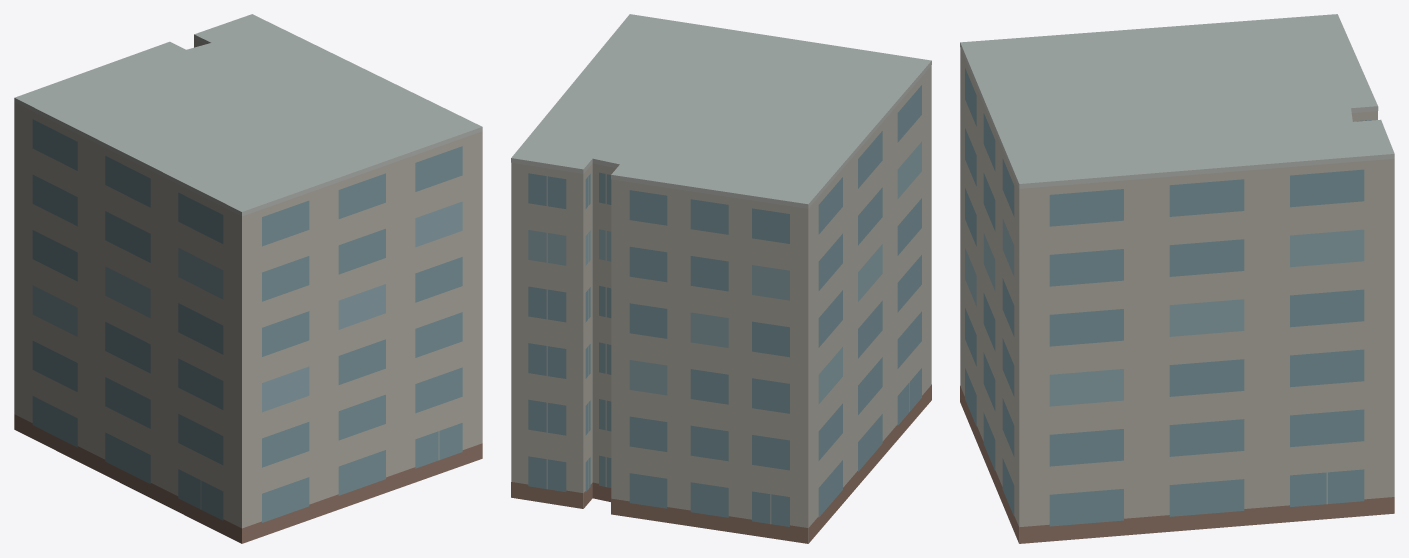
File: survey-upis-32734528.glb
3 renders of one model, left to right at view 1: azimuth 30°, elevation 25°; view 2: azimuth 150°, elevation 25°; view 3: azimuth 270°, elevation 25°, orthographic. The views are drawn at different scales.
Parts seen in each view (by area): view 1: survey-upis-32734528.tmp; view 2: survey-upis-32734528.tmp; view 3: survey-upis-32734528.tmp.
Boxes of the visible parts, left/top/right/bottom form: survey-upis-32734528.tmp: left=14, top=14, right=482, bottom=543; survey-upis-32734528.tmp: left=511, top=14, right=931, bottom=543; survey-upis-32734528.tmp: left=960, top=14, right=1394, bottom=543.
Size of the model in its own units: 18.56 by 18.3 by 20.04.
